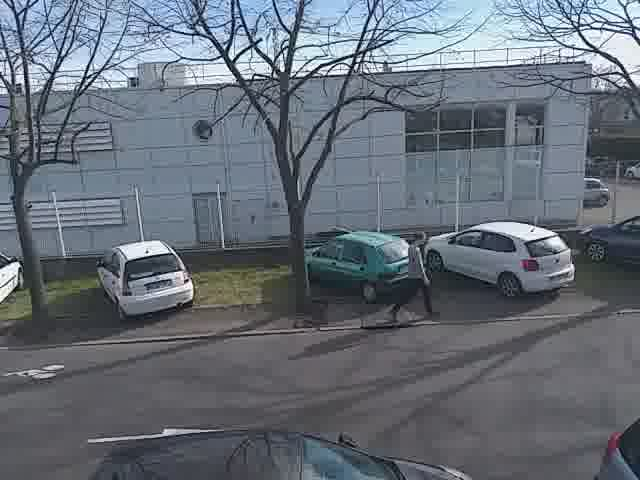persona: (388, 229, 442, 323)
